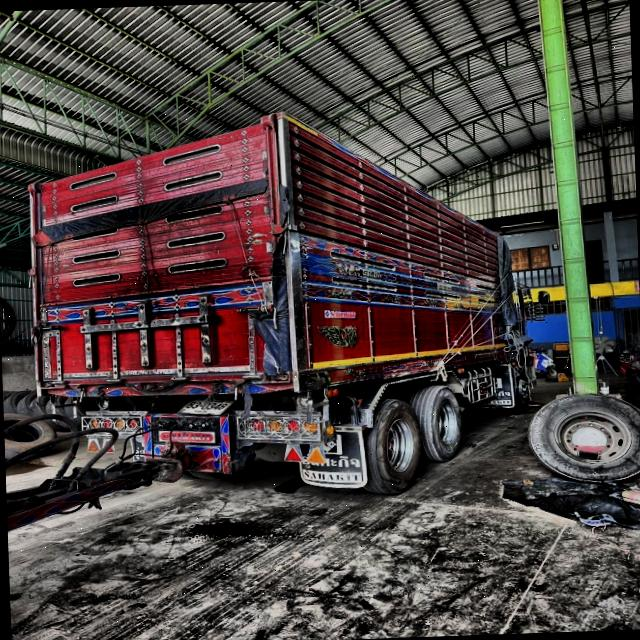trailer: (0, 94, 541, 529)
